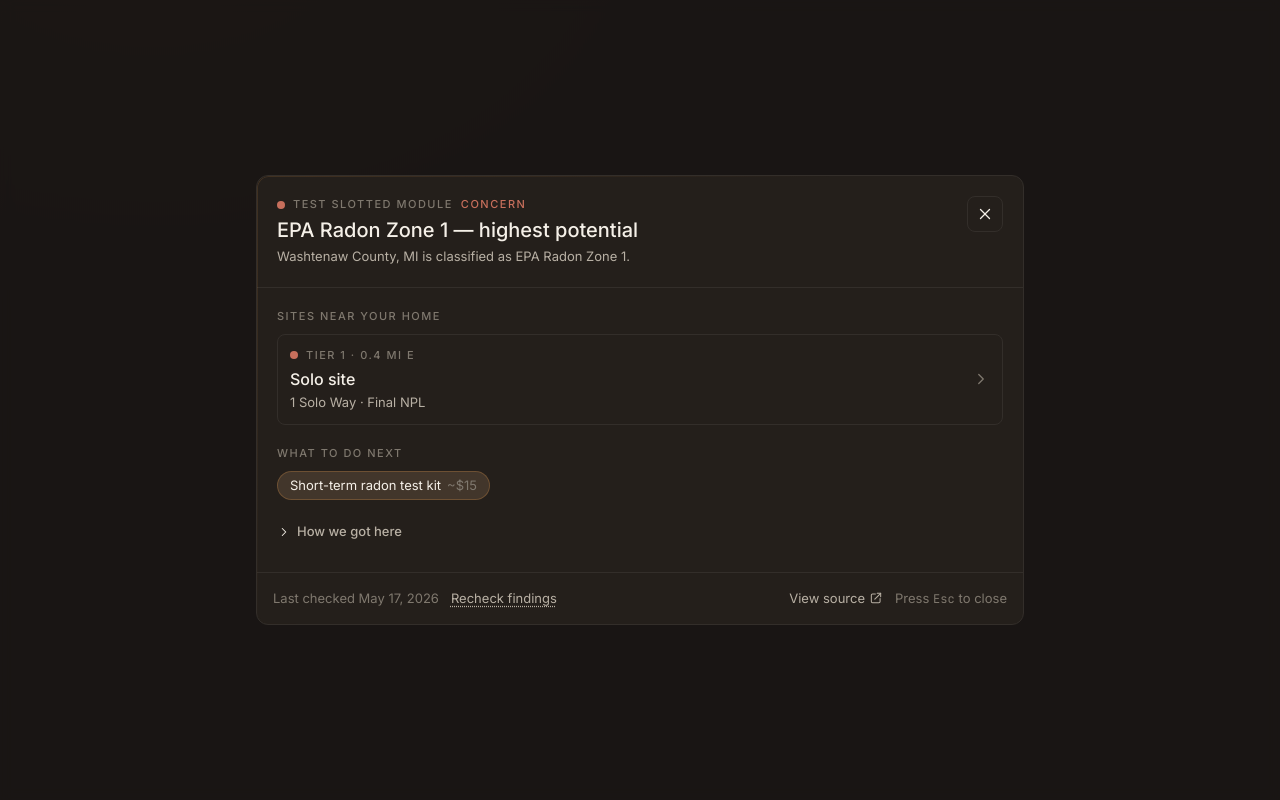
it: HabitatFindingModal › slotted shell › uses the singular back label when there is only one card
Click the button "Tier 1 · 0.4 mi E Solo site 1 Solo Way · Final NPL" at (361, 355), box [277, 334, 1003, 425]
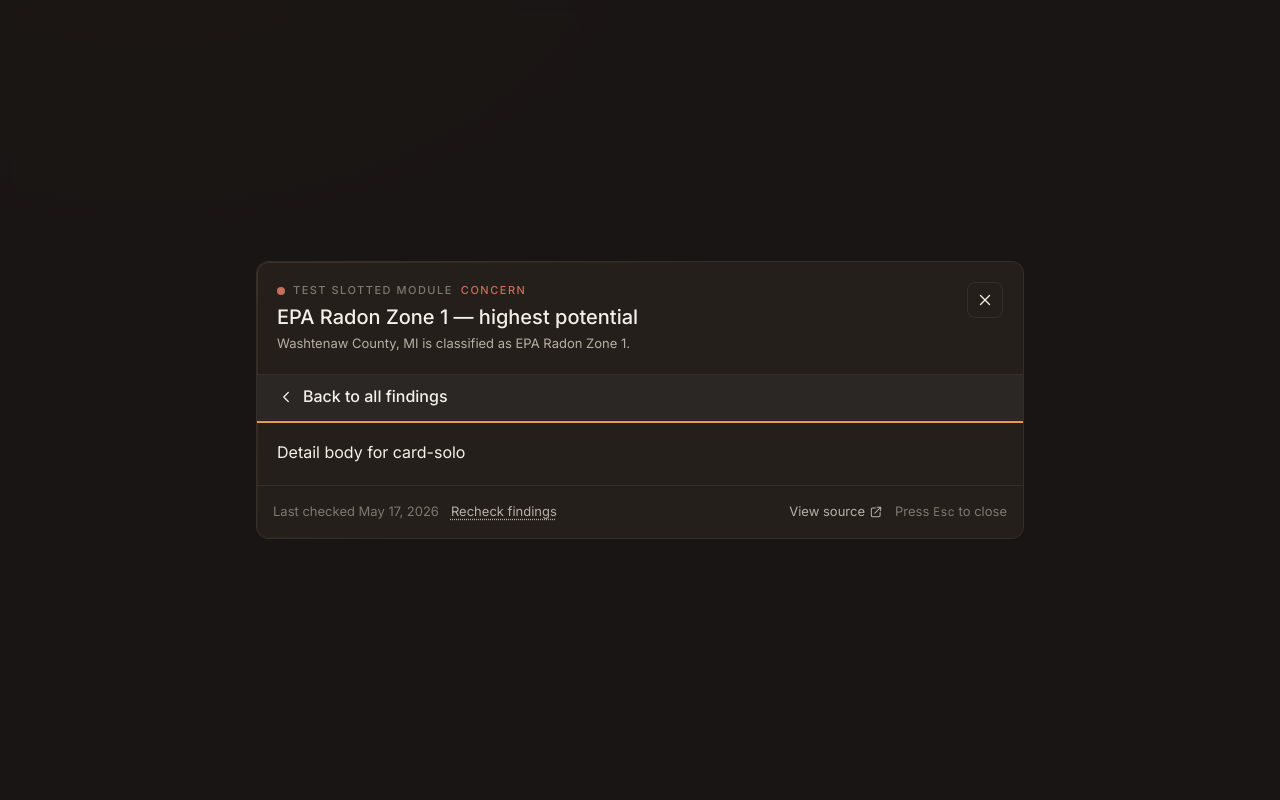
Now the text "Back to all findings" is shown, box [303, 384, 448, 409]
